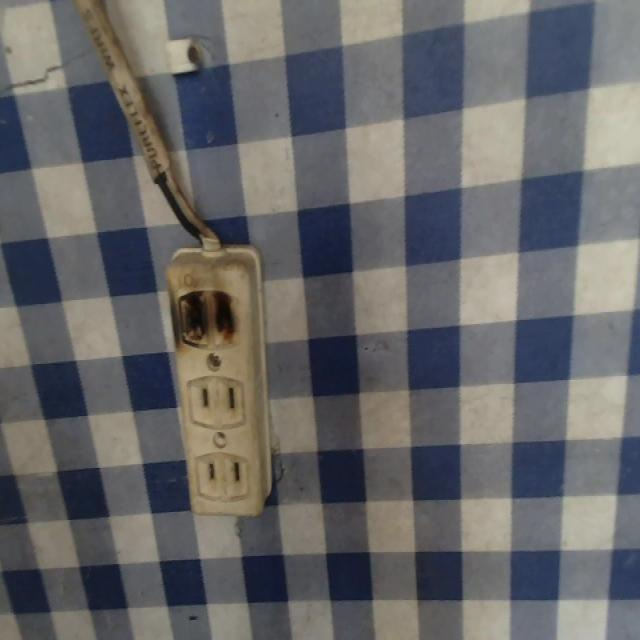-: (171, 281, 240, 356)
